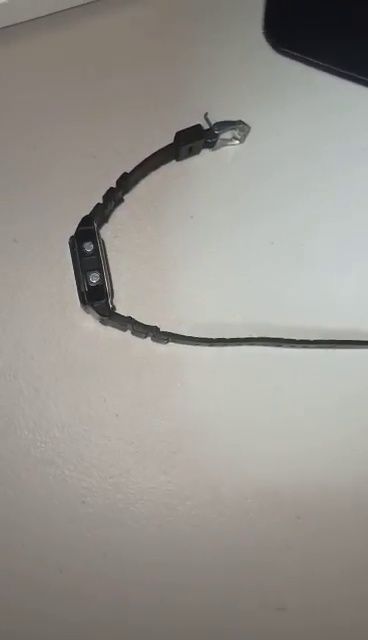watch: (74, 115, 368, 350)
